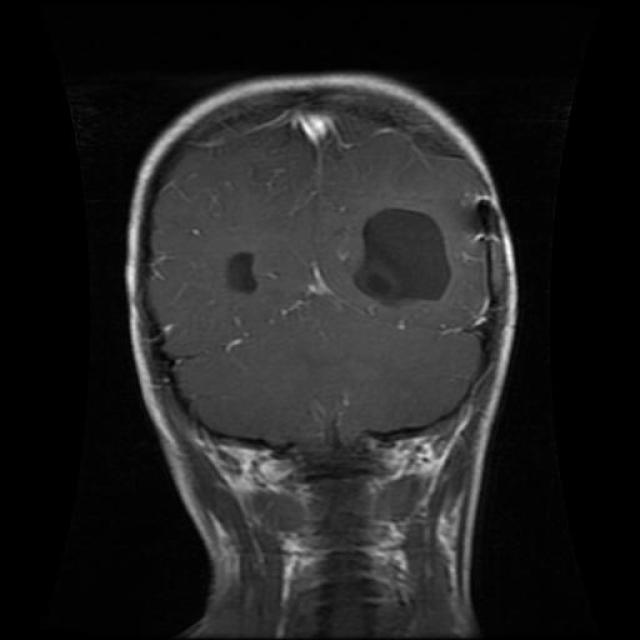glioma: (352, 201, 458, 320)
